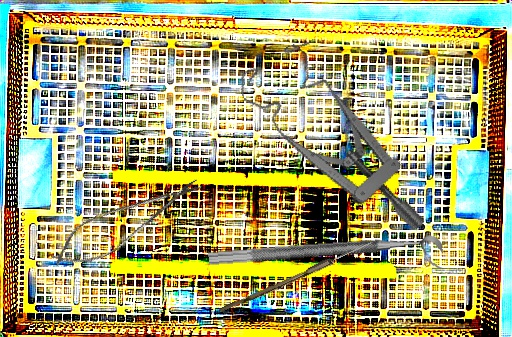Fixation Ring: (208, 233, 444, 287)
Micro Scissor: (41, 163, 211, 281)
Speculum: (231, 23, 427, 270)
Surgical Spoon: (219, 238, 374, 316)
